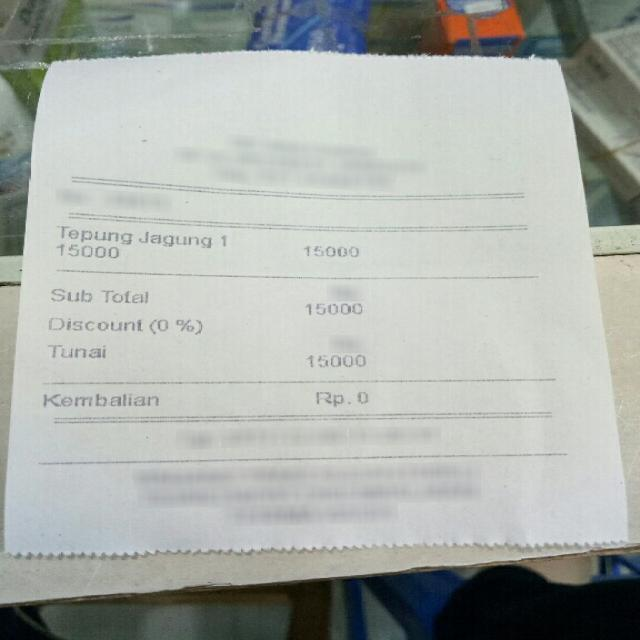kertas: (0, 42, 629, 558)
